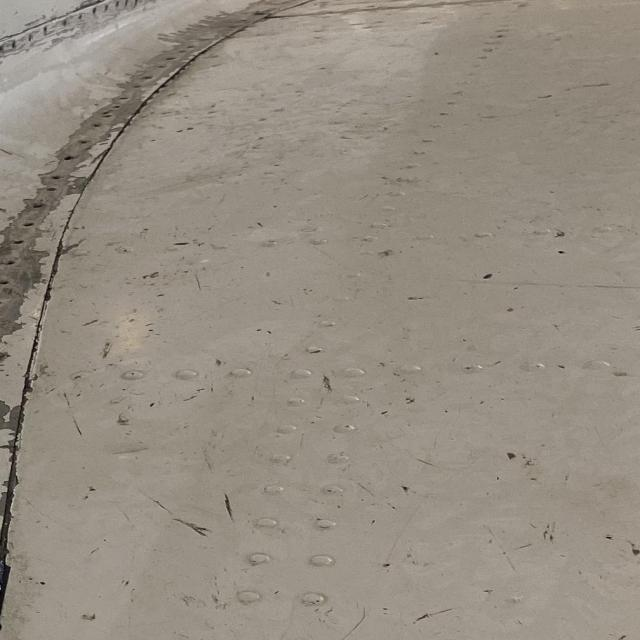Missing-head: (8, 234, 30, 248), (17, 218, 38, 231), (1, 256, 19, 268), (0, 278, 11, 289), (0, 298, 8, 309)
Scratch: (0, 0, 300, 592), (0, 0, 183, 85)
